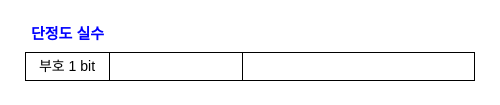
The diagram is 500 pixels wide and 105 high, and some of its shapes have lost their labels. The shapes that lost their labels are listed below. From the top down, each one's centre as x and y in pixels, then its label:
At point 175,66: "지수 8 bit".
At point 358,66: "가수 23 bit".
